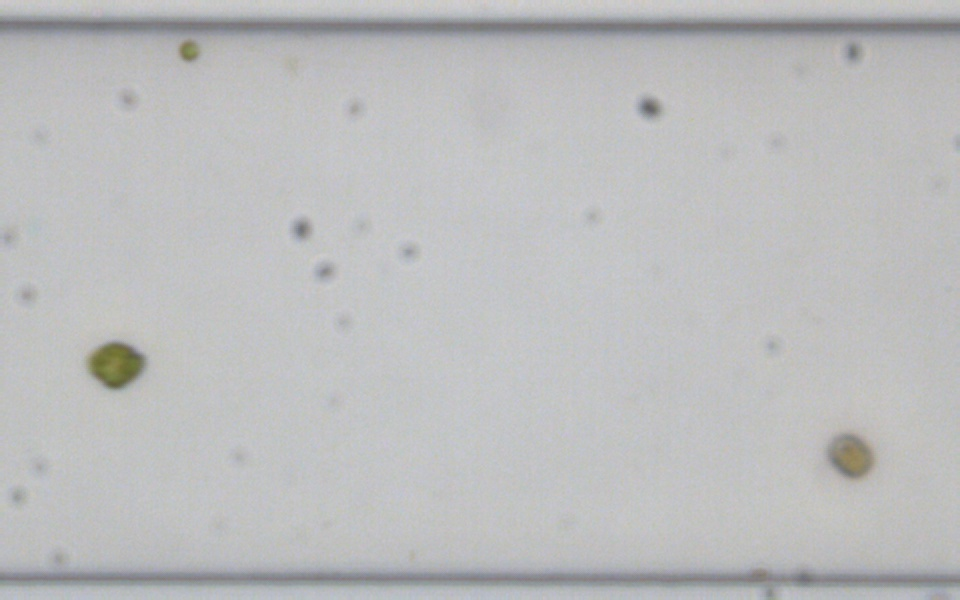Chlorella: (177, 38, 201, 62)
Effrenium: (823, 430, 875, 480)
Platymonas: (87, 339, 147, 389)
